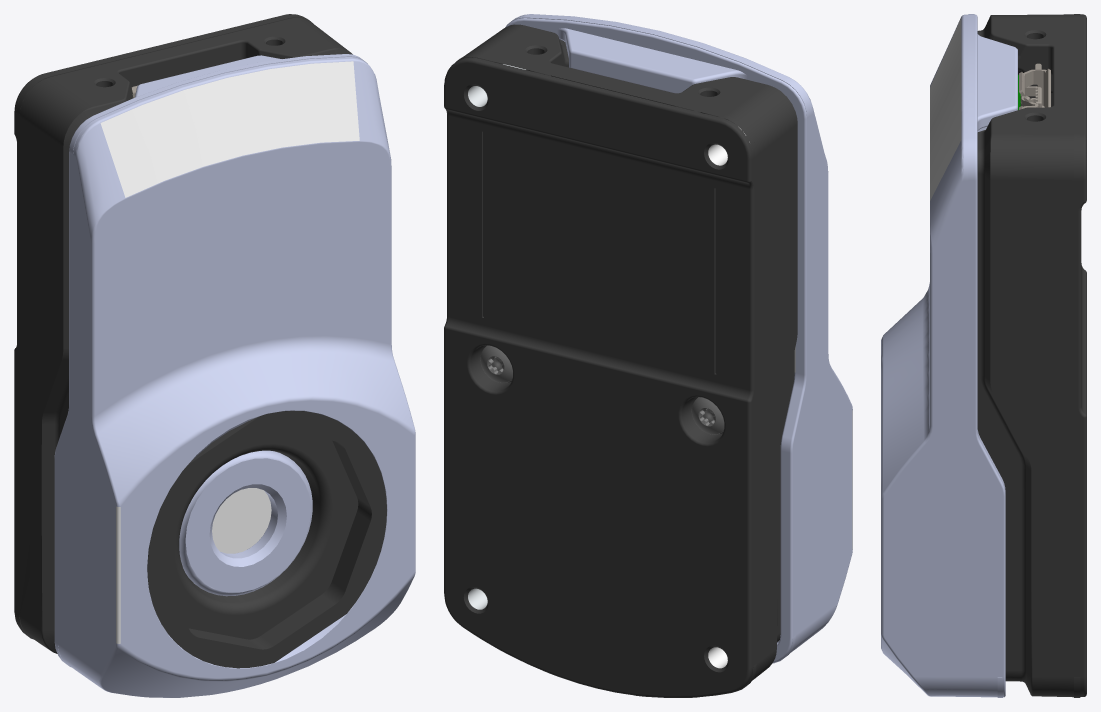
The model's file is ueye_xc.glb.
3 views of the same model, side by side, from view 1: azimuth 30°, elevation 25°; view 2: azimuth 150°, elevation 25°; view 3: azimuth 270°, elevation 25° (orthographic). The views are drawn at different scales.
Visible parts, largest first — view 1: USB3 XC R2 Master; view 2: USB3 XC R2 Master; view 3: USB3 XC R2 Master.
Boxes of the visible parts, x1,y1,x2,y2 form: USB3 XC R2 Master: (14,14,415,697); USB3 XC R2 Master: (444,14,852,697); USB3 XC R2 Master: (881,14,1086,697).
Bounding box in the file's own units: 0.032 × 0.061 × 0.019.
